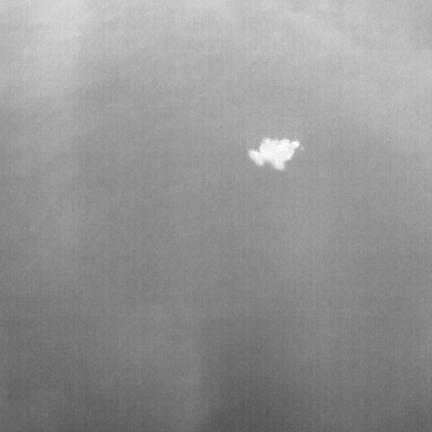flukeprints: (248, 138, 300, 170)
